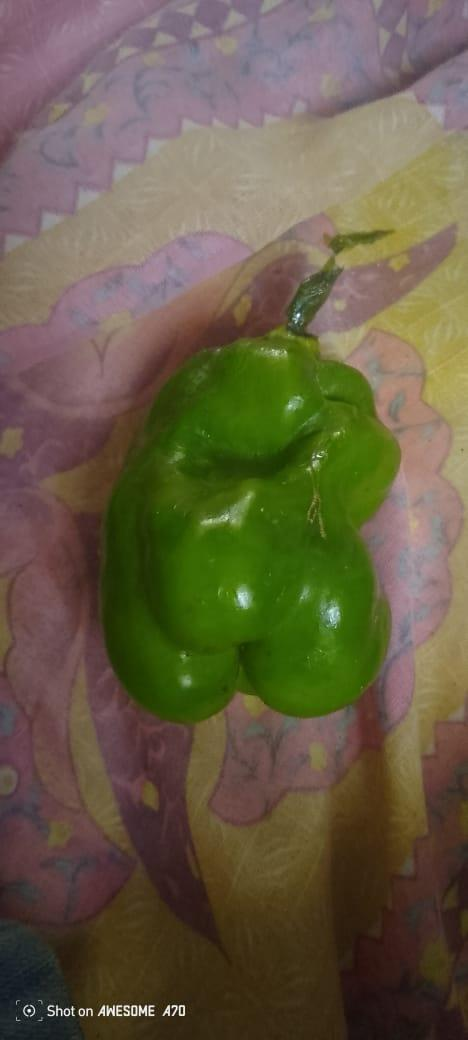non-mango: (103, 321, 384, 710)
